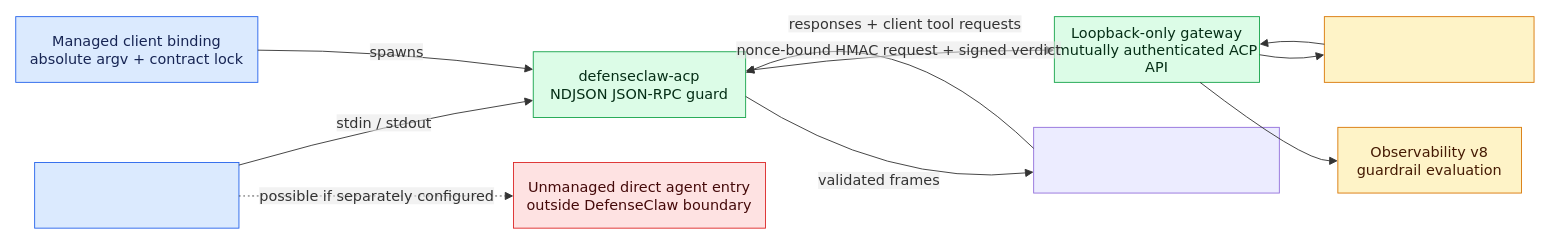
This 1550x244 diagram has some shape labels left out. Each missing label, with the box of its shape:
ACP agent Kiro / Cursor / OpenCode / …: (1033, 126, 1279, 193)
ACP client Zed / JetBrains / other: (34, 162, 239, 228)
DefenseClaw policy rules + scanners + judge: (1323, 16, 1534, 82)
